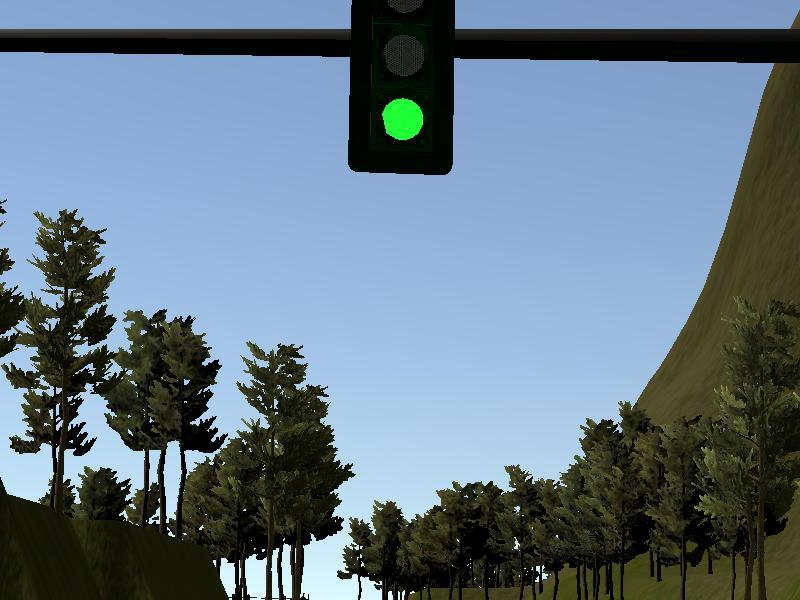Green: (354, 1, 452, 174)
